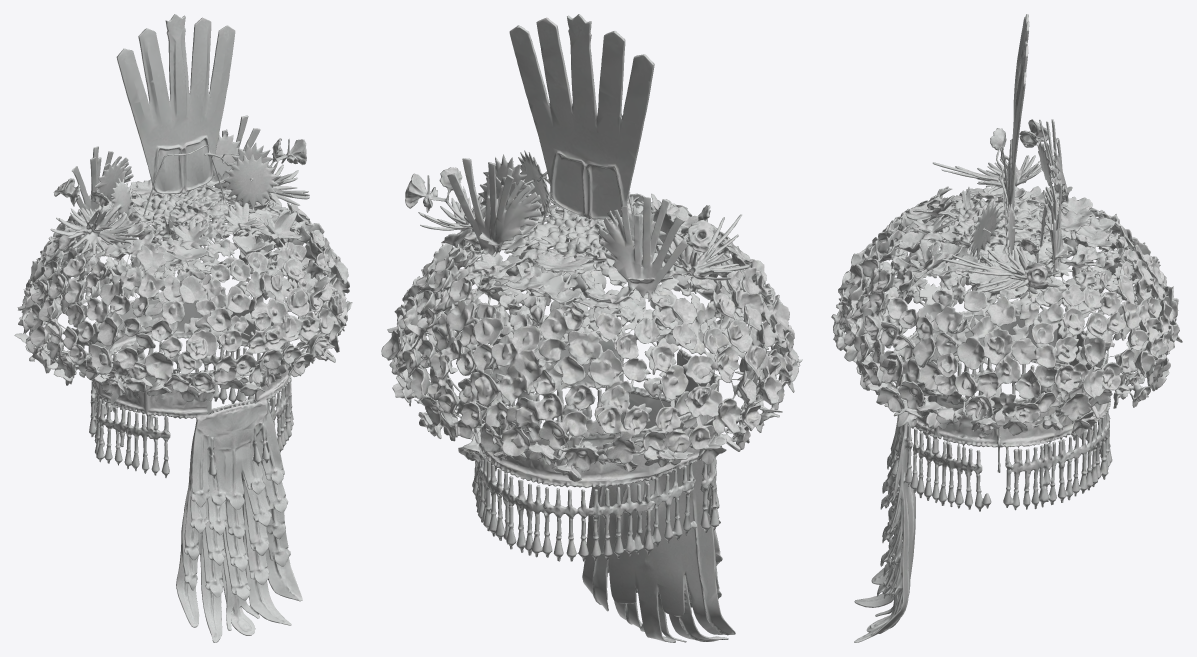
File: blossom-headdress.glb
3 renders of one model, left to right at view 1: azimuth 30°, elevation 25°; view 2: azimuth 150°, elevation 25°; view 3: azimuth 270°, elevation 25°, orthographic. The views are drawn at different scales.
Size of the model in its own units: 1.04 by 1.9 by 0.9935.
1 material, 1 textured.
